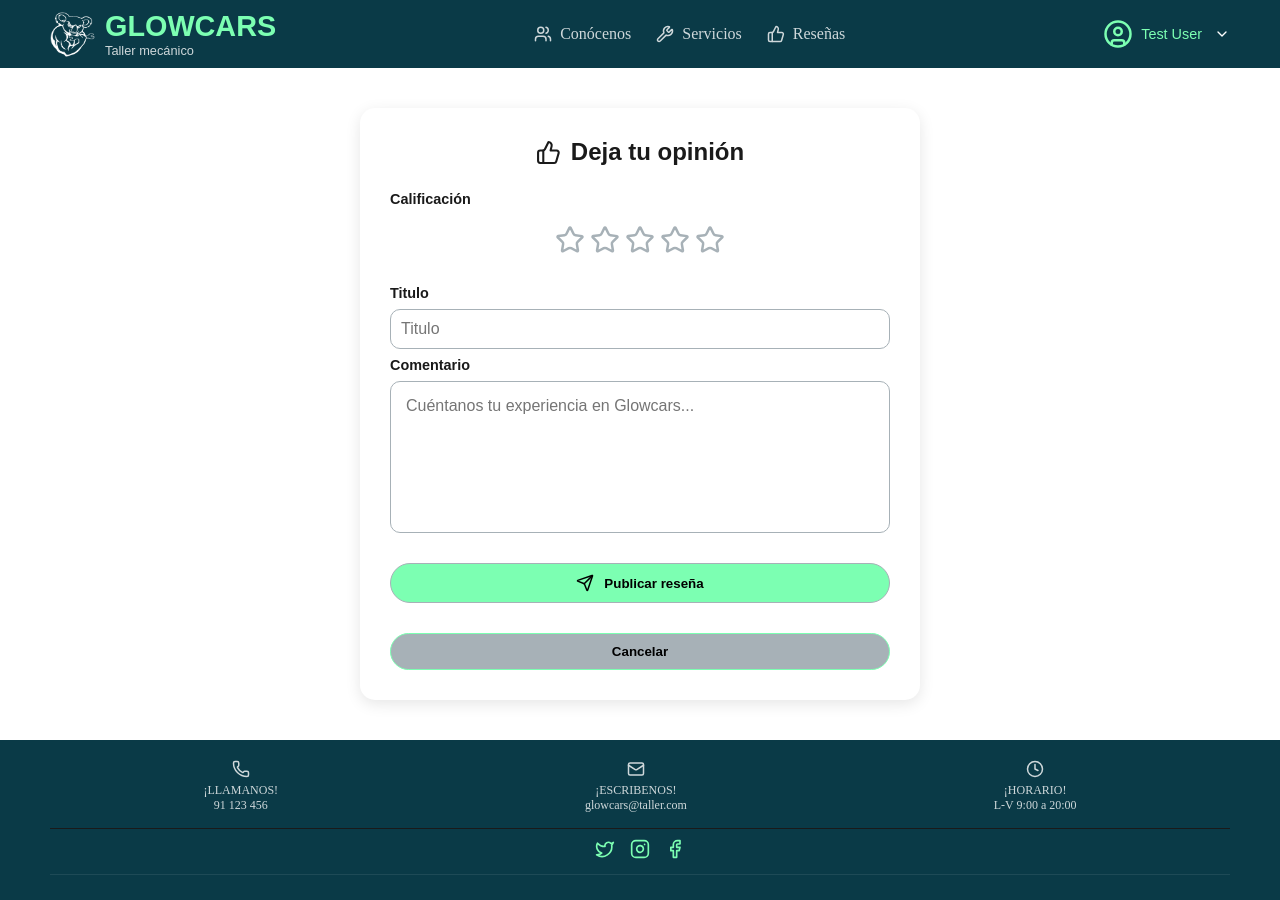
Test: Pruebas en <NewResena /> › debe mostrar el modal de éxito al publicar correctamente
Note: Rellenar campos obligatorios
In the field named "titulo": {"x": 640, "y": 329} [390, 309, 890, 349], type "Ok"
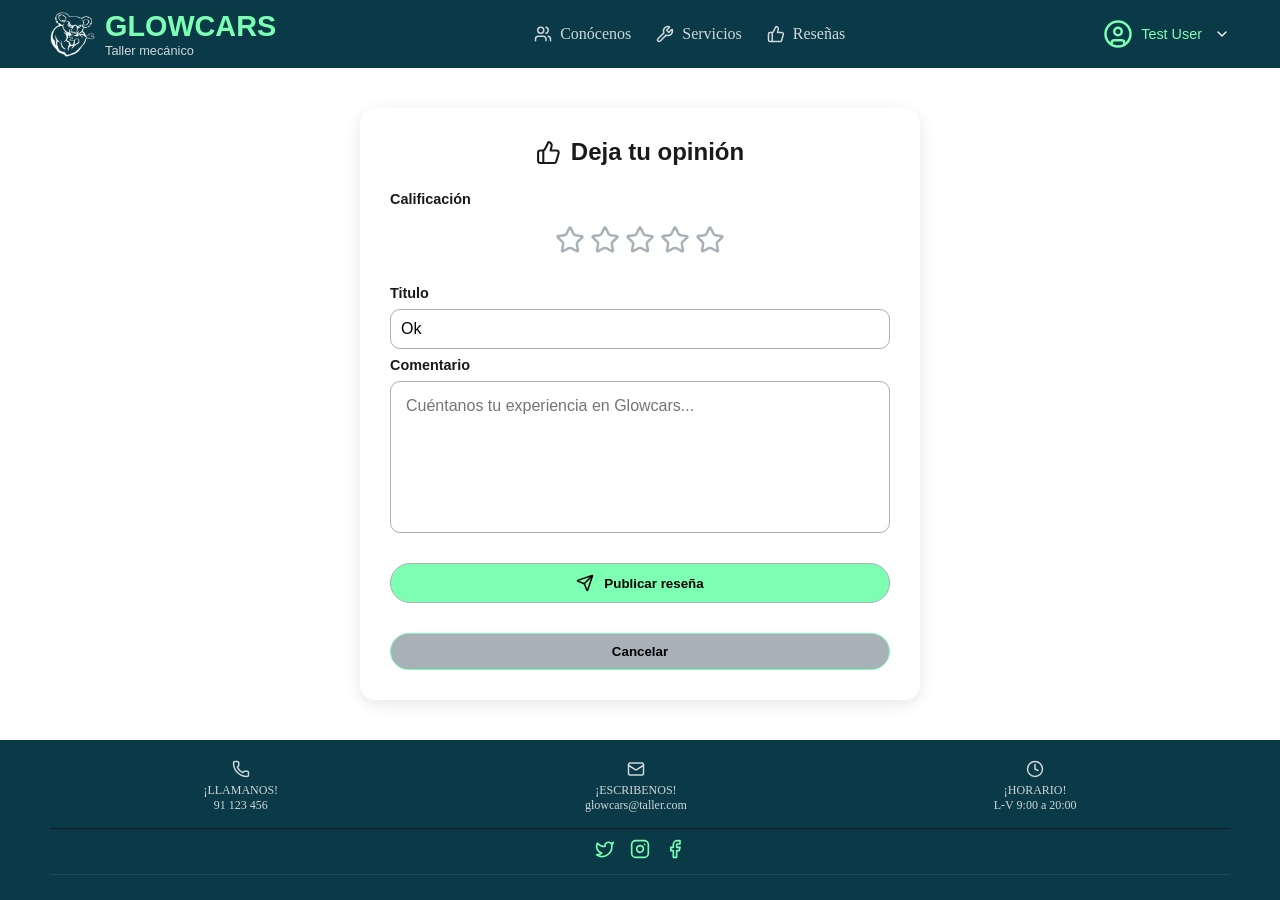
In the text box named "comentario": {"x": 640, "y": 457} [390, 381, 890, 533], type "Vale"
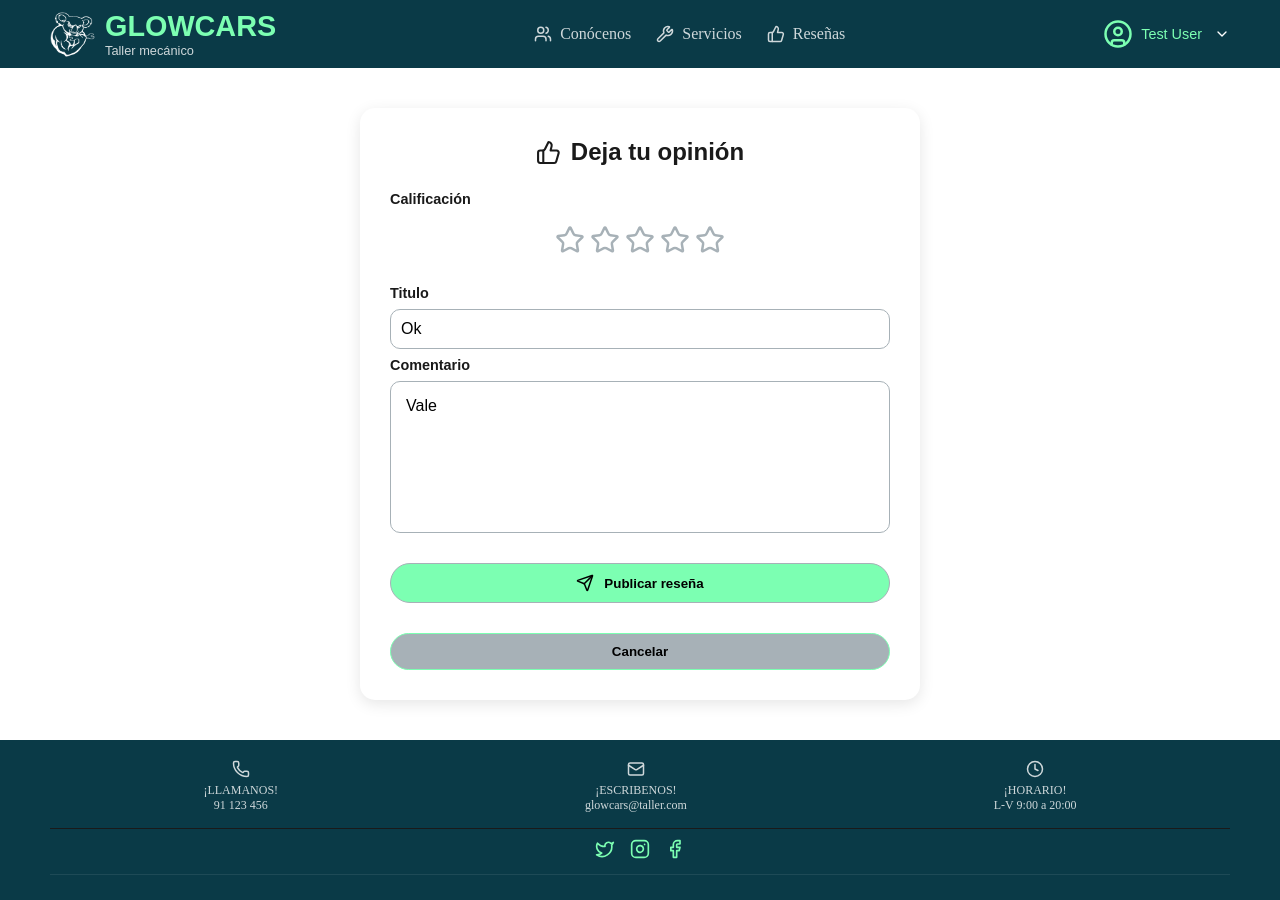
Click the button "Publicar reseña": {"x": 640, "y": 583} [390, 563, 890, 603]
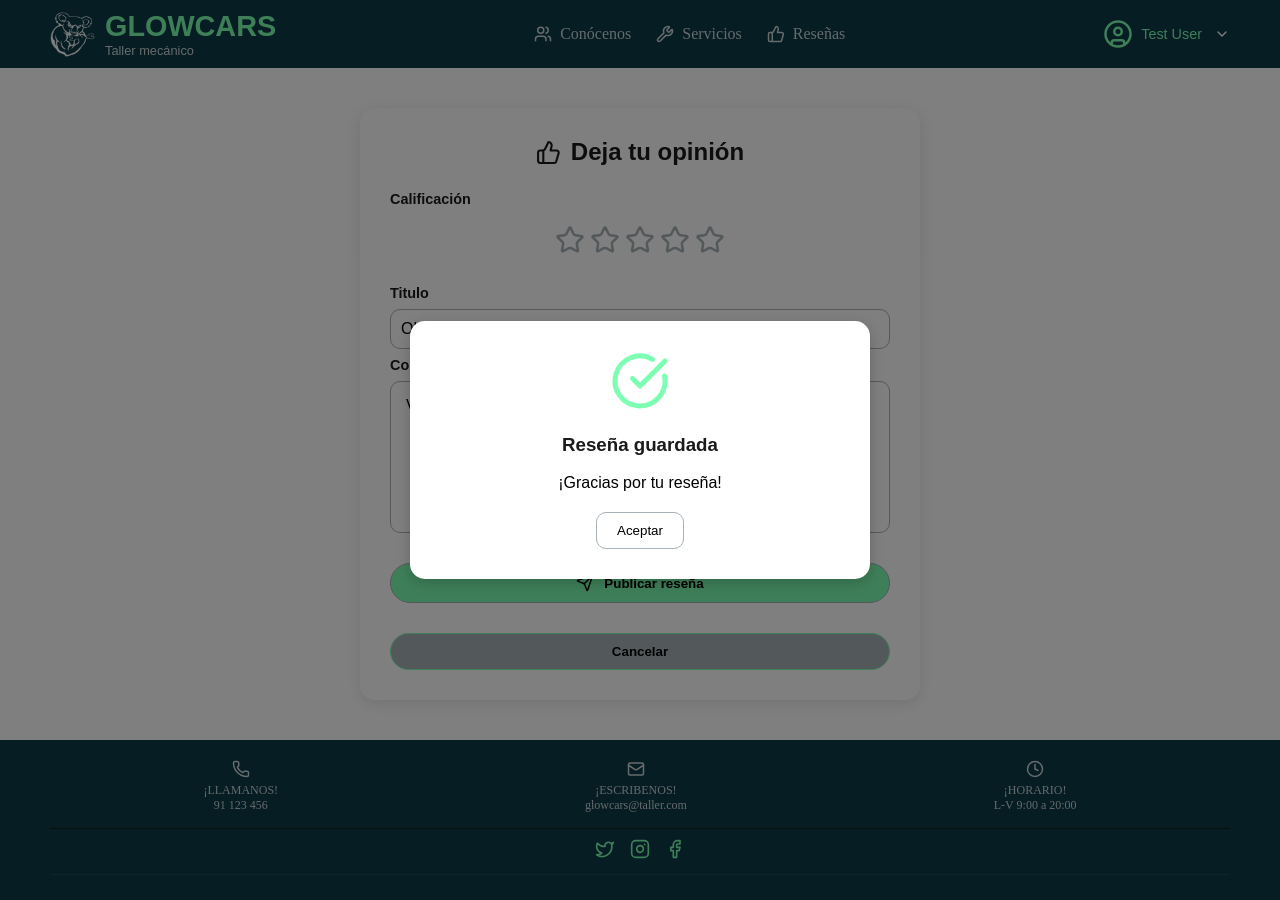
Now the heading "Reseña guardada" is shown, box [562, 434, 718, 454]
